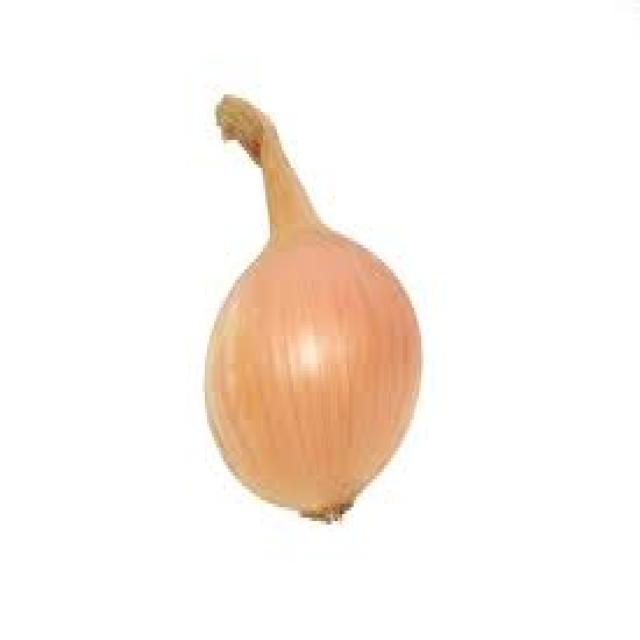onion: (165, 77, 424, 546)
